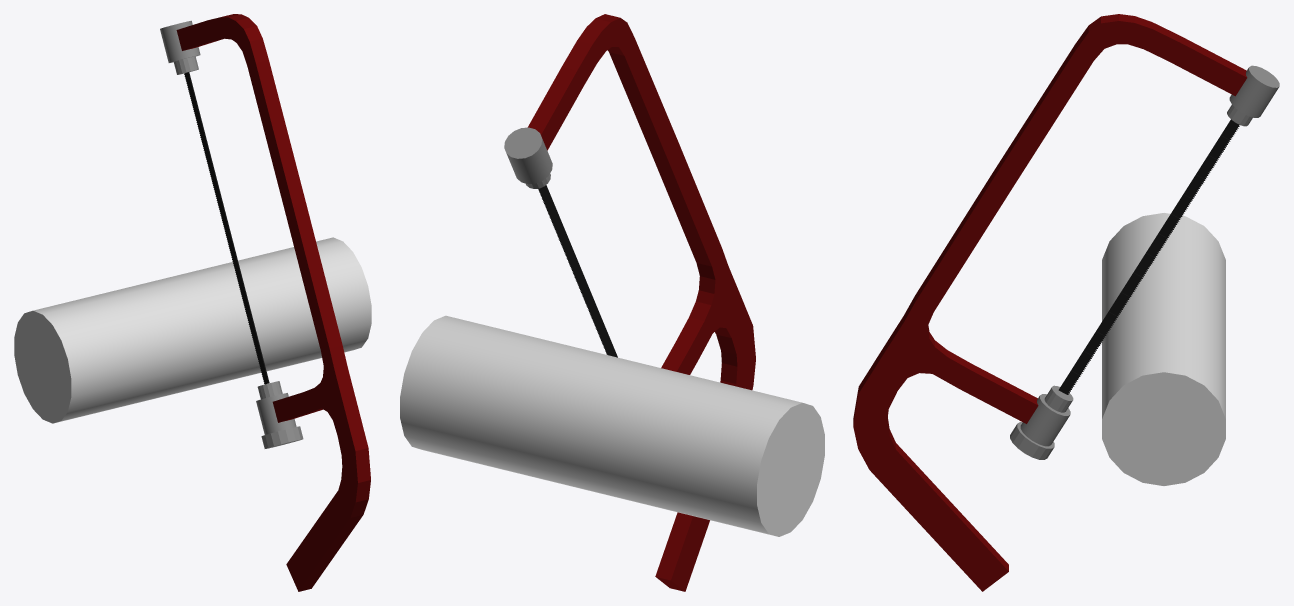
Rendered from hacksaw_animation.FBX.
The picture shows the model from 3 angles, left to right: view 1: azimuth 30°, elevation 25°; view 2: azimuth 150°, elevation 25°; view 3: azimuth 270°, elevation 25°; orthographic projection. The views are drawn at different scales.
Visible parts, largest first — view 1: Cylinder010, Plane004, hacksaw001, Cylinder008, Cylinder007; view 2: Cylinder010, Plane004, Cylinder007, hacksaw001; view 3: Cylinder010, Plane004, hacksaw001, Cylinder008, Cylinder007.
Boxes of the visible parts, <box> form: Cylinder010: <box>14,237,371,423</box>; Plane004: <box>176,14,370,591</box>; hacksaw001: <box>184,72,269,384</box>; Cylinder008: <box>256,381,303,448</box>; Cylinder007: <box>160,20,200,74</box>; Cylinder010: <box>400,315,824,536</box>; Plane004: <box>527,14,755,591</box>; Cylinder007: <box>504,127,552,188</box>; hacksaw001: <box>538,185,617,357</box>; Cylinder010: <box>1102,213,1225,485</box>; Plane004: <box>853,14,1247,591</box>; hacksaw001: <box>1058,119,1239,394</box>; Cylinder008: <box>1010,385,1073,459</box>; Cylinder007: <box>1227,65,1279,126</box>.
Size of the model in its own units: 0.2959 by 0.4945 by 0.3348.
